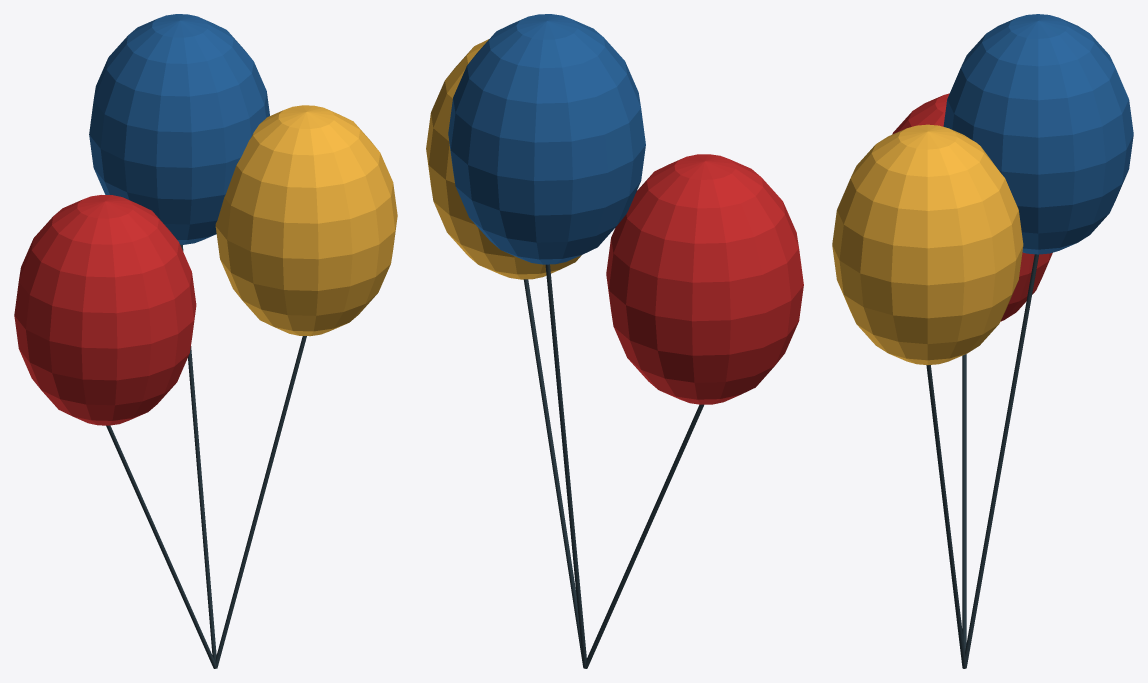
The model's file is scendance-plan-balloons.glb.
The picture shows the model from 3 angles, left to right: view 1: azimuth 30°, elevation 25°; view 2: azimuth 150°, elevation 25°; view 3: azimuth 270°, elevation 25°; orthographic projection. The views are drawn at different scales.
Size of the model in its own units: 0.56 by 0.9712 by 0.41.
